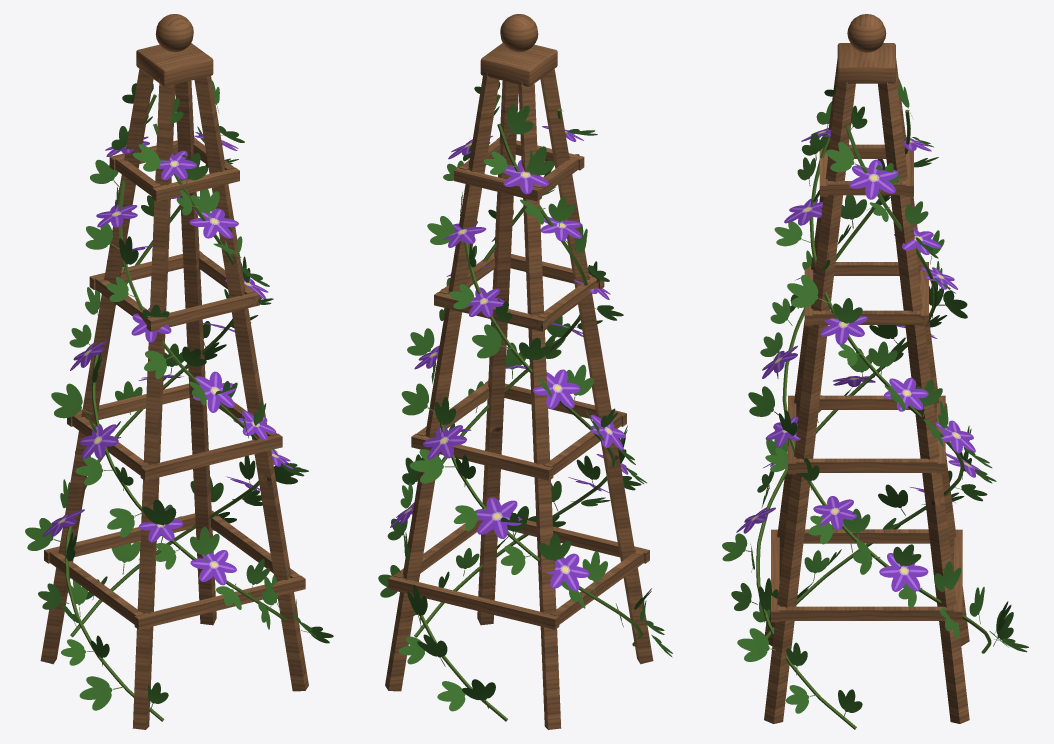
File: clematis-obelisk.glb
The picture shows the model from 3 angles, left to right: view 1: azimuth 30°, elevation 25°; view 2: azimuth 150°, elevation 25°; view 3: azimuth 270°, elevation 25°; orthographic projection.
Visible parts, largest first — view 1: Clematis_Obelisk; view 2: Clematis_Obelisk; view 3: Clematis_Obelisk.
Boxes of the visible parts, x1,y1,x2,y2 form: Clematis_Obelisk: (25, 14, 333, 729); Clematis_Obelisk: (378, 14, 672, 729); Clematis_Obelisk: (722, 14, 1028, 729).
Size of the model in its own units: 0.7964 by 1.89 by 0.8458.
Materials: 4 (3 with a texture image).
